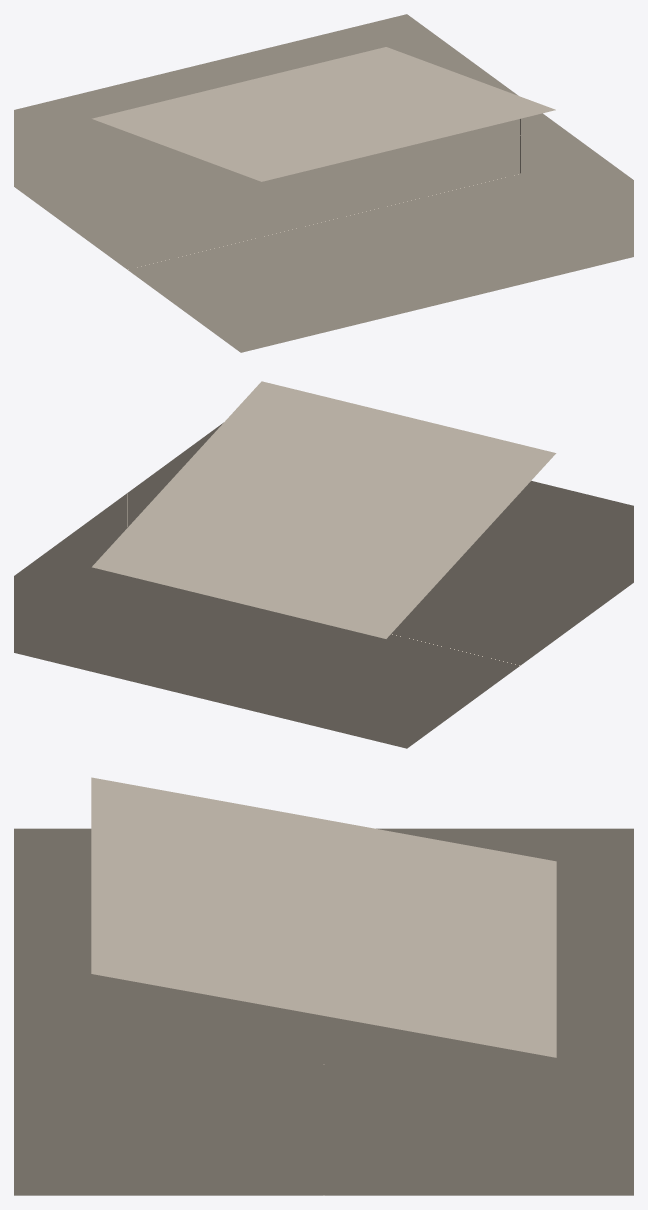
File: trap_t8_noise_trap.glb
The picture shows the model from 3 angles, top to bottom: view 1: azimuth 30°, elevation 25°; view 2: azimuth 150°, elevation 25°; view 3: azimuth 270°, elevation 25°; orthographic projection. The views are drawn at different scales.
Parts seen in each view (by area): view 1: trap_t8_noise_trap; view 2: trap_t8_noise_trap; view 3: trap_t8_noise_trap.
Boxes of the visible parts, left/top/right/bottom form: trap_t8_noise_trap: left=14, top=14, right=633, bottom=352; trap_t8_noise_trap: left=14, top=381, right=633, bottom=748; trap_t8_noise_trap: left=14, top=777, right=633, bottom=1195.
Bounding box in the file's own units: 0.75 × 0.252 × 0.75.
